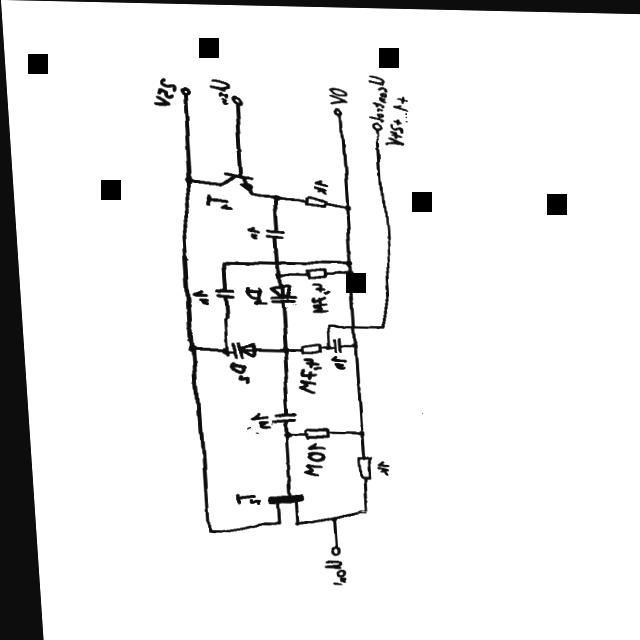capacitor: (265, 410, 291, 424), (260, 227, 283, 240), (209, 287, 231, 300), (326, 336, 338, 352)
crossover: (268, 258, 278, 266), (343, 323, 352, 330)
diode: (263, 282, 293, 303), (225, 340, 252, 359)
junction: (181, 343, 194, 352), (275, 429, 287, 438), (274, 345, 285, 354), (180, 175, 191, 183), (268, 192, 277, 201), (216, 347, 225, 356), (341, 268, 351, 276), (339, 202, 349, 210), (351, 428, 361, 436), (268, 271, 279, 278), (215, 260, 225, 267), (340, 258, 349, 265), (321, 514, 330, 521), (345, 341, 354, 348), (320, 321, 328, 328), (199, 527, 207, 534), (373, 323, 382, 329), (354, 507, 361, 513), (319, 343, 326, 349)
resistor: (348, 454, 367, 479), (298, 193, 326, 207), (296, 426, 324, 439), (299, 266, 325, 279), (293, 341, 319, 354)
terminal: (228, 94, 243, 107), (368, 120, 381, 133), (177, 85, 190, 97), (321, 544, 335, 555), (329, 106, 342, 115)
text: (381, 93, 409, 145), (362, 72, 386, 122), (289, 355, 318, 393), (294, 440, 321, 476), (149, 77, 176, 107), (304, 281, 327, 314), (314, 558, 339, 587), (205, 77, 229, 105), (201, 192, 230, 210), (223, 360, 244, 384), (239, 285, 263, 305), (324, 84, 347, 104), (226, 491, 254, 506), (243, 411, 265, 429), (323, 353, 343, 370), (308, 177, 327, 194), (186, 289, 205, 305), (368, 459, 383, 475), (242, 225, 257, 240)
transistor: (258, 491, 299, 528), (214, 170, 253, 197)
